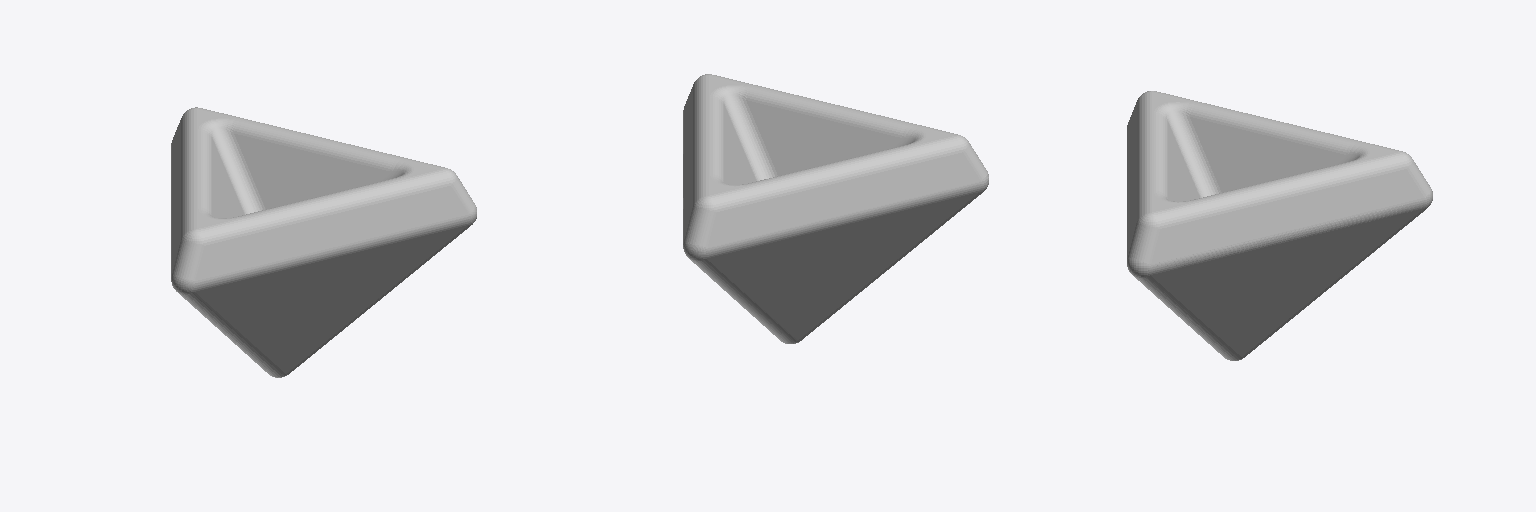
File: at_dirgem.obj
The picture shows the model from 3 angles: view 1: azimuth 30°, elevation 25°; view 2: azimuth 150°, elevation 25°; view 3: azimuth 270°, elevation 25°; orthographic projection.
Size of the model in its own units: 42.49 by 27.88 by 37.35.